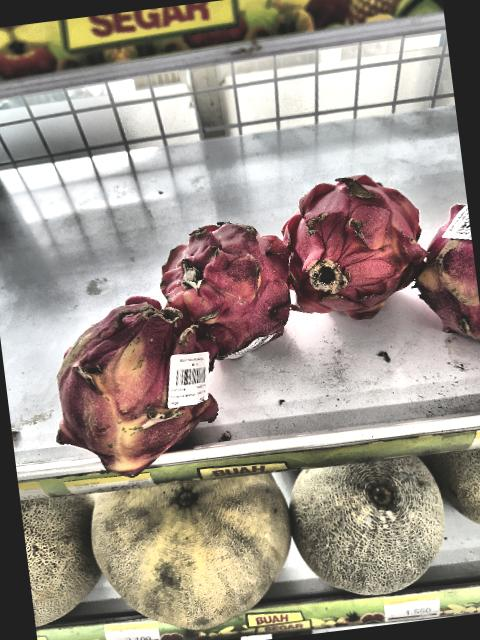buah-naga-belum-matang: (39, 284, 228, 479)
buah-naga-matang: (136, 204, 304, 366), (270, 168, 426, 308), (408, 189, 480, 355)
